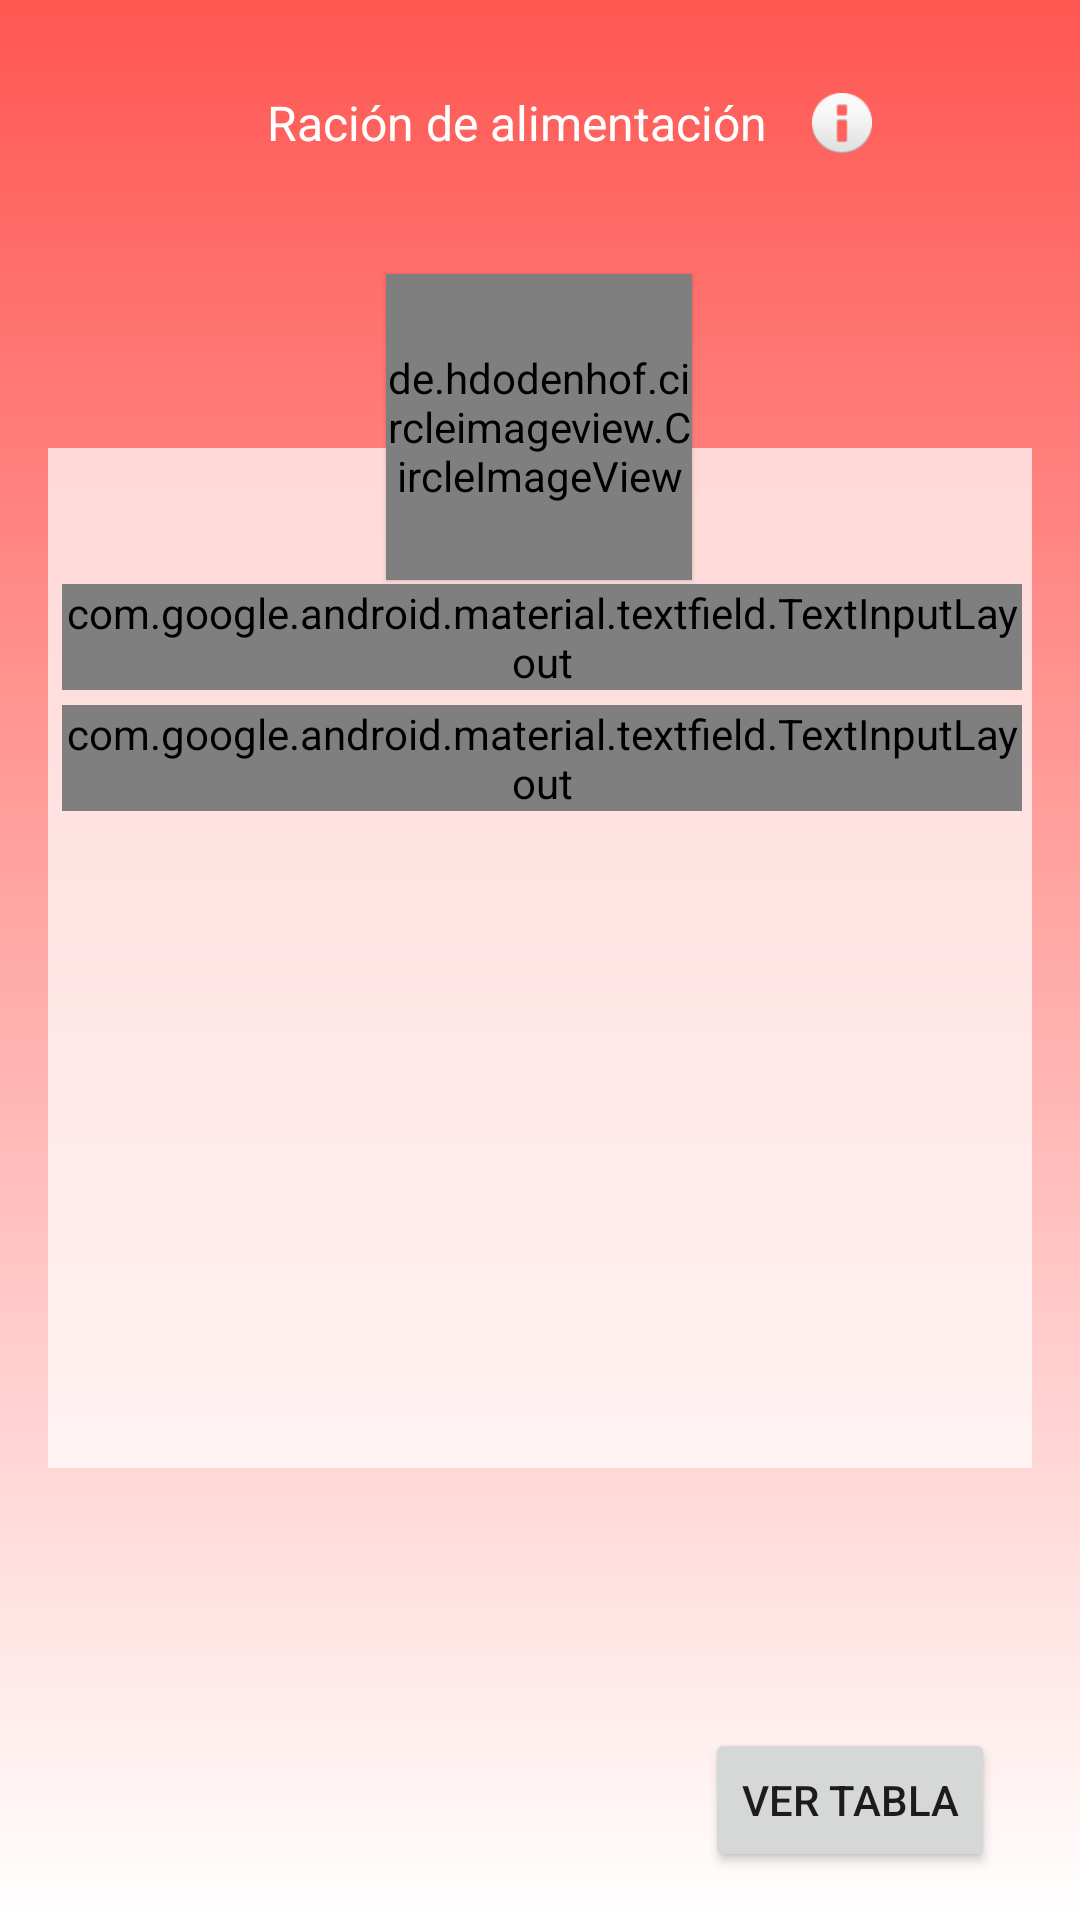

Named icons in this screenshot (1080*1920) and their bounding boxes, (left=x1, top=y1, right=x2, bottom=y2):
info: (left=812, top=93, right=872, bottom=153)
